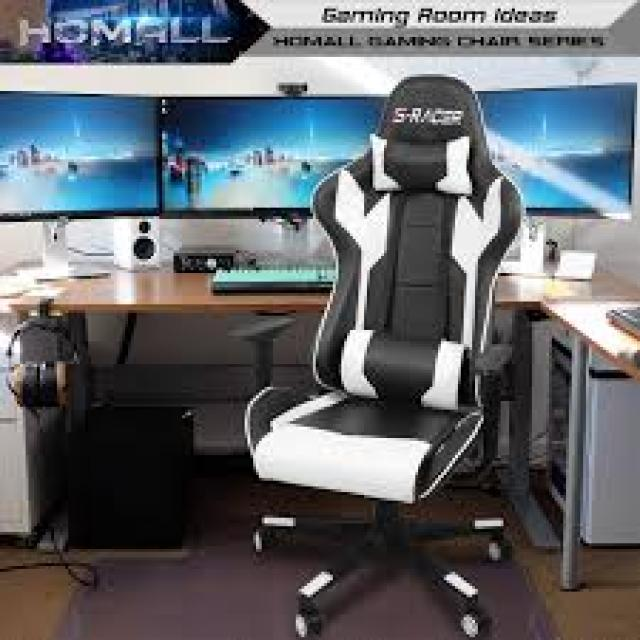chair: (146, 57, 592, 631)
